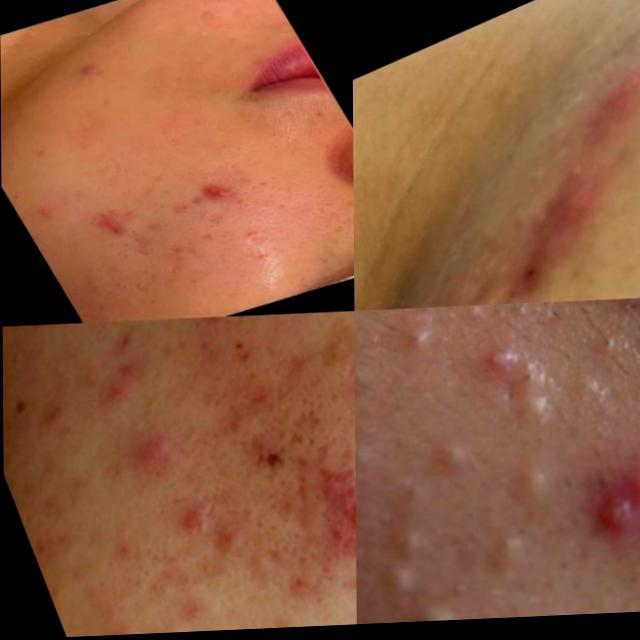8: (119, 428, 184, 494), (161, 492, 222, 552), (100, 373, 142, 418), (333, 487, 355, 556), (88, 613, 144, 637)
9: (472, 334, 518, 388), (187, 317, 243, 339), (204, 0, 250, 2)
blackheads: (466, 166, 634, 310), (573, 445, 640, 575), (564, 66, 640, 157), (241, 420, 293, 490), (279, 461, 330, 522), (78, 204, 142, 250), (192, 171, 250, 215)
